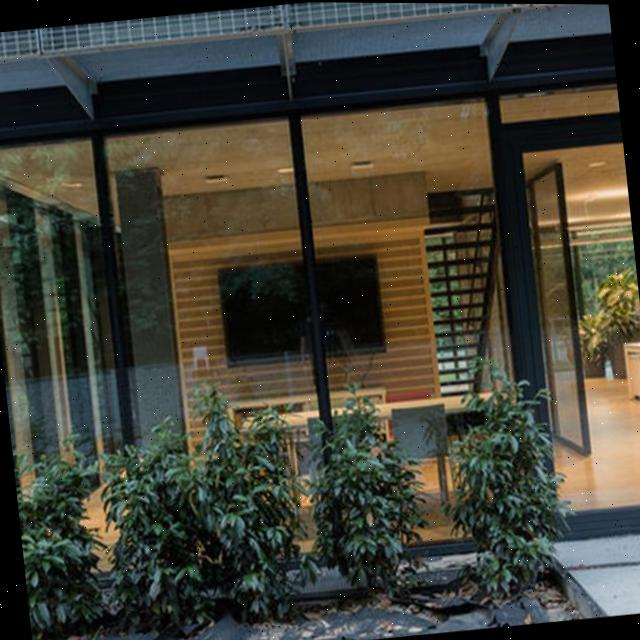building: (0, 0, 640, 597)
